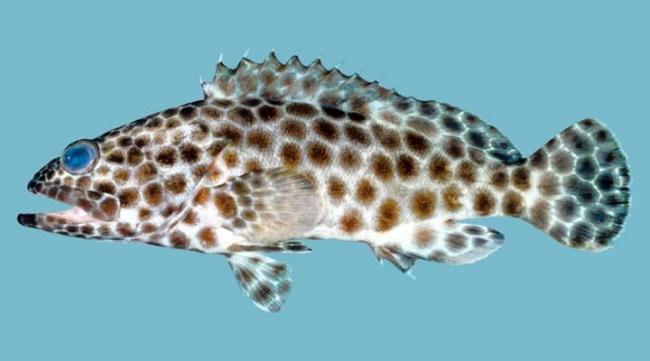fish: (17, 46, 633, 314)
